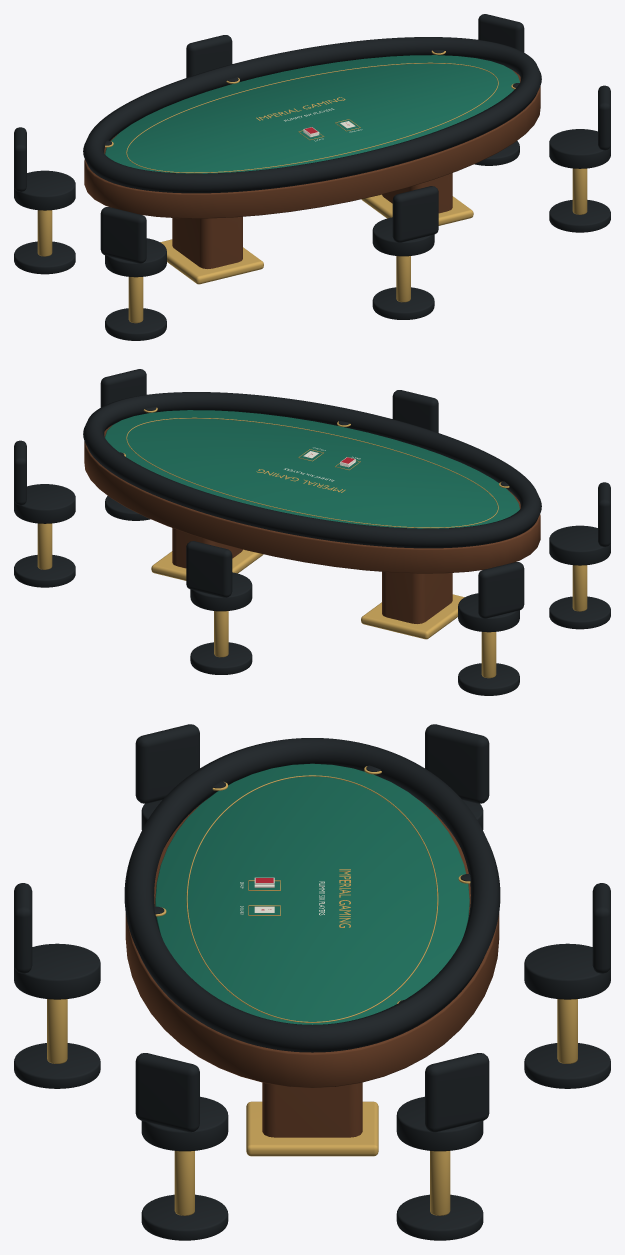
File: Rummy_6.glb
3 renders of one model, top to bottom at view 1: azimuth 30°, elevation 25°; view 2: azimuth 150°, elevation 25°; view 3: azimuth 270°, elevation 25°, orthographic. The views are drawn at different scales.
Visible parts, largest first — view 1: Emerald playing surface, Padded perimeter rail, Walnut table cabinet, Pedestal, Seat 05 backrest, Seat 00 backrest, Seat 01 cushion, Seat 04 cushion, Pedestal brass shoe, Seat 01 foot, Seat 00 foot, Seat 04 foot (+15 smaller); view 2: Emerald playing surface, Padded perimeter rail, Walnut table cabinet, Pedestal, Seat 04 backrest, Seat 03 backrest, Seat 02 cushion, Seat 05 cushion, Pedestal brass shoe, Seat 02 foot, Seat 03 foot, Seat 05 foot (+15 smaller); view 3: Emerald playing surface, Padded perimeter rail, Walnut table cabinet, Pedestal.001, Seat 01 backrest, Seat 02 backrest, Seat 04 backrest, Seat 05 backrest, Pedestal brass shoe.001, Seat 00 cushion, Seat 03 cushion, Seat 01 foot (+12 smaller).
Boxes of the visible parts, <box> form: Emerald playing surface: <box>105,55,519,173</box>; Padded perimeter rail: <box>83,37,541,193</box>; Walnut table cabinet: <box>84,70,540,218</box>; Pedestal: <box>172,216,242,268</box>; Seat 05 backrest: <box>100,207,146,263</box>; Seat 00 backrest: <box>392,186,438,242</box>; Seat 01 cushion: <box>549,129,610,168</box>; Seat 04 cushion: <box>14,170,75,210</box>; Pedestal brass shoe: <box>160,239,263,284</box>; Seat 01 foot: <box>549,200,610,232</box>; Seat 00 foot: <box>372,287,434,319</box>; Seat 04 foot: <box>14,241,75,274</box>; Emerald playing surface: <box>105,410,519,528</box>; Padded perimeter rail: <box>83,392,541,548</box>; Walnut table cabinet: <box>84,425,540,573</box>; Pedestal: <box>382,571,452,623</box>; Seat 04 backrest: <box>478,562,524,618</box>; Seat 03 backrest: <box>186,541,232,597</box>; Seat 02 cushion: <box>14,484,75,523</box>; Seat 05 cushion: <box>549,525,610,565</box>; Pedestal brass shoe: <box>361,594,464,639</box>; Seat 02 foot: <box>14,555,75,587</box>; Seat 03 foot: <box>190,642,252,674</box>; Seat 05 foot: <box>549,596,610,629</box>; Emerald playing surface: <box>155,763,469,1024</box>; Padded perimeter rail: <box>124,738,500,1052</box>; Walnut table cabinet: <box>125,799,499,1087</box>; Pedestal.001: <box>262,1082,362,1137</box>; Seat 01 backrest: <box>135,1053,199,1132</box>; Seat 02 backrest: <box>425,1053,489,1132</box>; Seat 04 backrest: <box>425,724,489,803</box>; Seat 05 backrest: <box>135,724,199,803</box>; Pedestal brass shoe.001: <box>246,1101,378,1156</box>; Seat 00 cushion: <box>14,943,100,999</box>; Seat 03 cushion: <box>524,943,610,999</box>; Seat 01 foot: <box>141,1194,228,1240</box>.
Size of the model in its own units: 3.61 by 0.9175 by 2.62.
